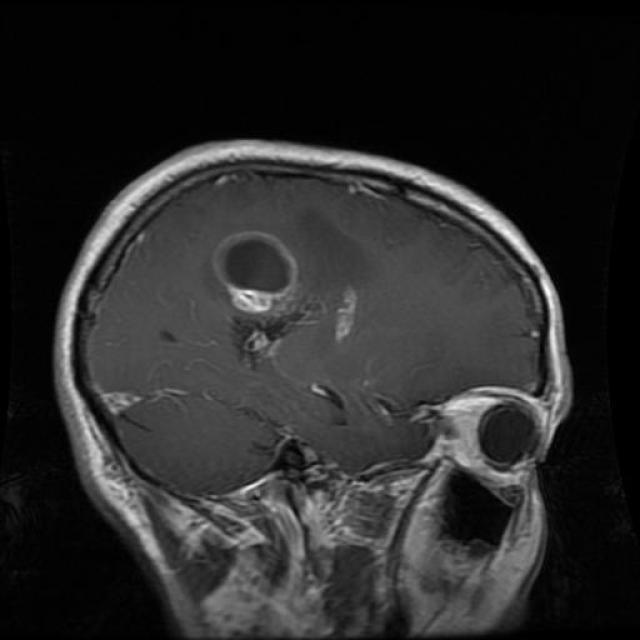glioma: (219, 230, 305, 311)
